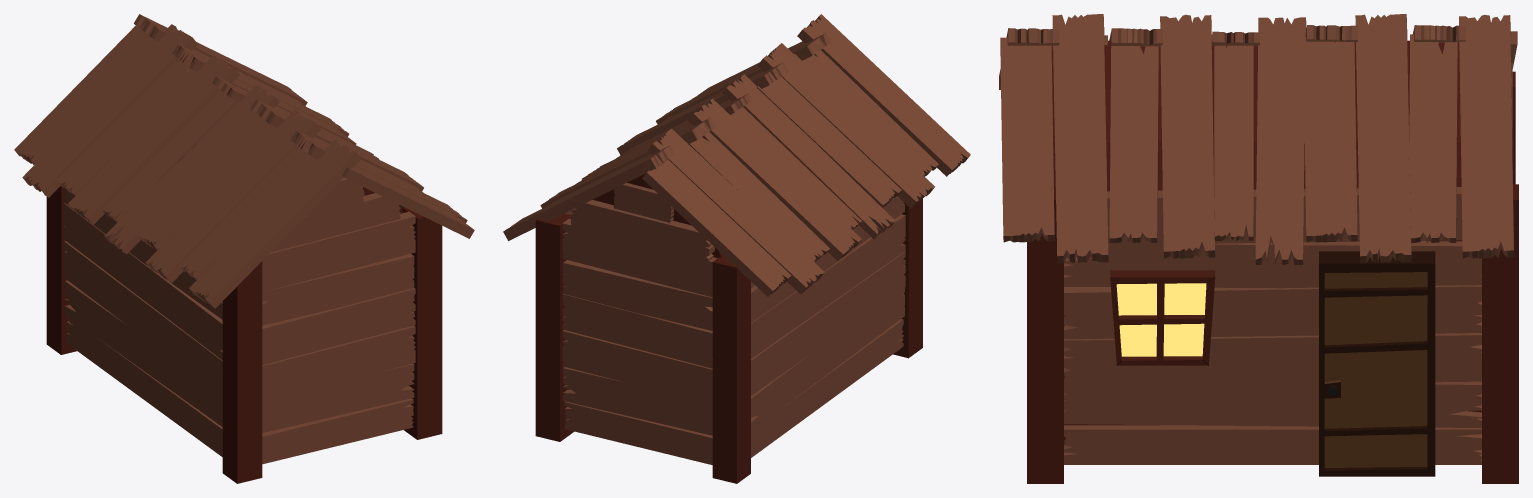
File: house 1.fbx
The picture shows the model from 3 angles, left to right: view 1: azimuth 30°, elevation 25°; view 2: azimuth 150°, elevation 25°; view 3: azimuth 270°, elevation 25°; orthographic projection. The views are drawn at different scales.
Visible parts, largest first — view 1: Pillar.002, Cube.045, Pillar, Cube.038, Cube.036, Cube.011, Cube.010, Cube.043, Cube.022, Cube.020, Cube.023, Cube.021 (+21 smaller); view 2: Pillar.003, Pillar.001, Cube.038, Cube.045, Cube.011, Cube.010, Cube.016, Cube.037, Cube.017, Cube.043, Cube.036, Cube.019 (+20 smaller); view 3: door, Cube.028, Cube.035, Cube.003, Cube.033, Cube.026, Cube.004, Cube.002, Cube.030, Cube.029, Cube.034, Cube.005 (+14 smaller).
Boxes of the visible parts, bbox=[...] form: Pillar.002: bbox=[222, 261, 262, 483]; Cube.045: bbox=[189, 139, 361, 308]; Pillar: bbox=[402, 207, 442, 439]; Cube.038: bbox=[67, 55, 239, 224]; Cube.036: bbox=[22, 24, 197, 197]; Cube.011: bbox=[64, 241, 222, 397]; Cube.010: bbox=[64, 203, 222, 360]; Cube.043: bbox=[145, 109, 321, 282]; Cube.022: bbox=[262, 288, 415, 365]; Cube.020: bbox=[262, 211, 415, 291]; Cube.023: bbox=[262, 325, 415, 402]; Cube.021: bbox=[262, 254, 414, 325]; Pillar.003: bbox=[712, 256, 750, 483]; Pillar.001: bbox=[535, 214, 574, 441]; Cube.038: bbox=[688, 98, 861, 260]; Cube.045: bbox=[797, 14, 970, 176]; Cube.011: bbox=[751, 251, 905, 395]; Cube.010: bbox=[751, 214, 905, 358]; Cube.016: bbox=[562, 330, 712, 404]; Cube.037: bbox=[642, 160, 791, 296]; Cube.017: bbox=[562, 294, 712, 368]; Cube.043: bbox=[758, 43, 934, 208]; Cube.036: bbox=[647, 128, 824, 294]; Cube.019: bbox=[562, 219, 717, 297]; door: bbox=[1319, 251, 1435, 476]; Cube.028: bbox=[1355, 14, 1411, 263]; Cube.035: bbox=[1052, 14, 1108, 263]; Cube.003: bbox=[1064, 381, 1481, 427]; Cube.033: bbox=[1160, 14, 1215, 258]; Cube.026: bbox=[1459, 14, 1514, 258]; Cube.004: bbox=[1064, 333, 1481, 386]; Cube.002: bbox=[1064, 425, 1481, 464]; Cube.030: bbox=[1255, 17, 1306, 265]; Cube.029: bbox=[1303, 37, 1357, 242]; Cube.034: bbox=[1000, 37, 1054, 242]; Cube.005: bbox=[1064, 285, 1481, 339].
Bounding box in the file's own units: 1108 × 1128 × 1339.
